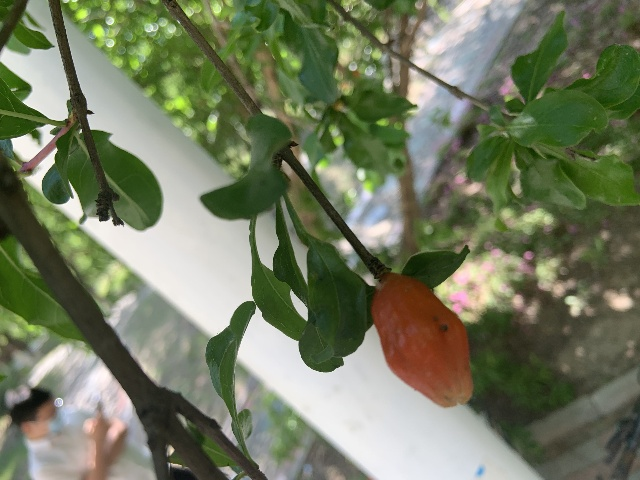bud: (370, 271, 473, 408)
